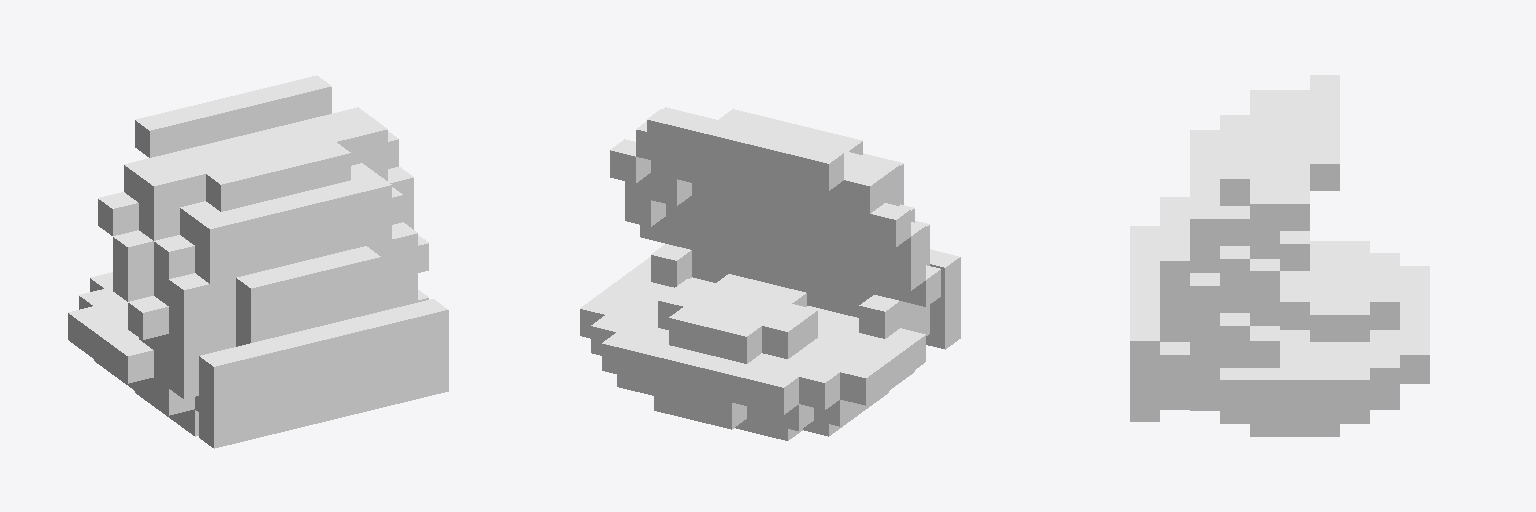
Rendered from obj.friedShell.obj.
3 views of the same model, side by side, from view 1: azimuth 30°, elevation 25°; view 2: azimuth 150°, elevation 25°; view 3: azimuth 270°, elevation 25° (orthographic).
Visible parts, largest first — view 1: object 1; view 2: object 1; view 3: object 1.
Part boxes in pixels (x1,y1,x2,y2): object 1: (68,75,448,448); object 1: (580,107,960,440); object 1: (1130,75,1429,436).
Size of the model in its own units: 1.1 by 1 by 1.